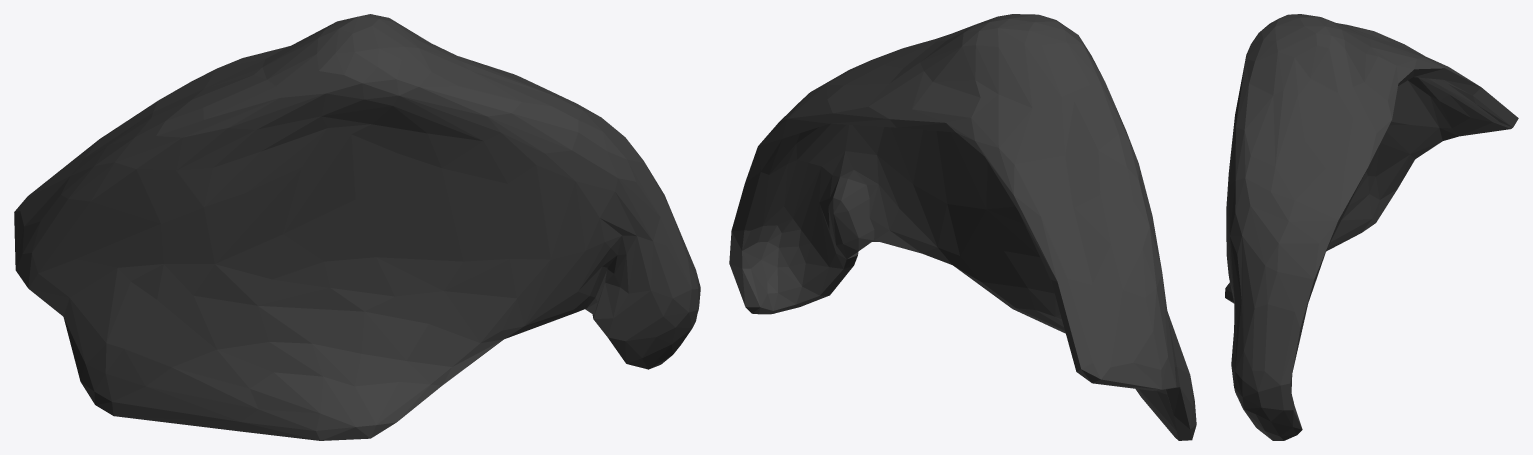
Rendered from Tibia_medial_condyle.glb.
3 views of the same model, side by side, from view 1: azimuth 30°, elevation 25°; view 2: azimuth 150°, elevation 25°; view 3: azimuth 270°, elevation 25° (orthographic). The views are drawn at different scales.
Visible parts, largest first — view 1: Tibia_medial_condyle; view 2: Tibia_medial_condyle; view 3: Tibia_medial_condyle.
Boxes of the visible parts, x1,y1,x2,y2 form: Tibia_medial_condyle: (14,14,700,440); Tibia_medial_condyle: (729,14,1196,440); Tibia_medial_condyle: (1225,14,1518,440).
Size of the model in its own units: 0.0401 by 0.0265 by 0.0228.
1 material, 1 textured.
